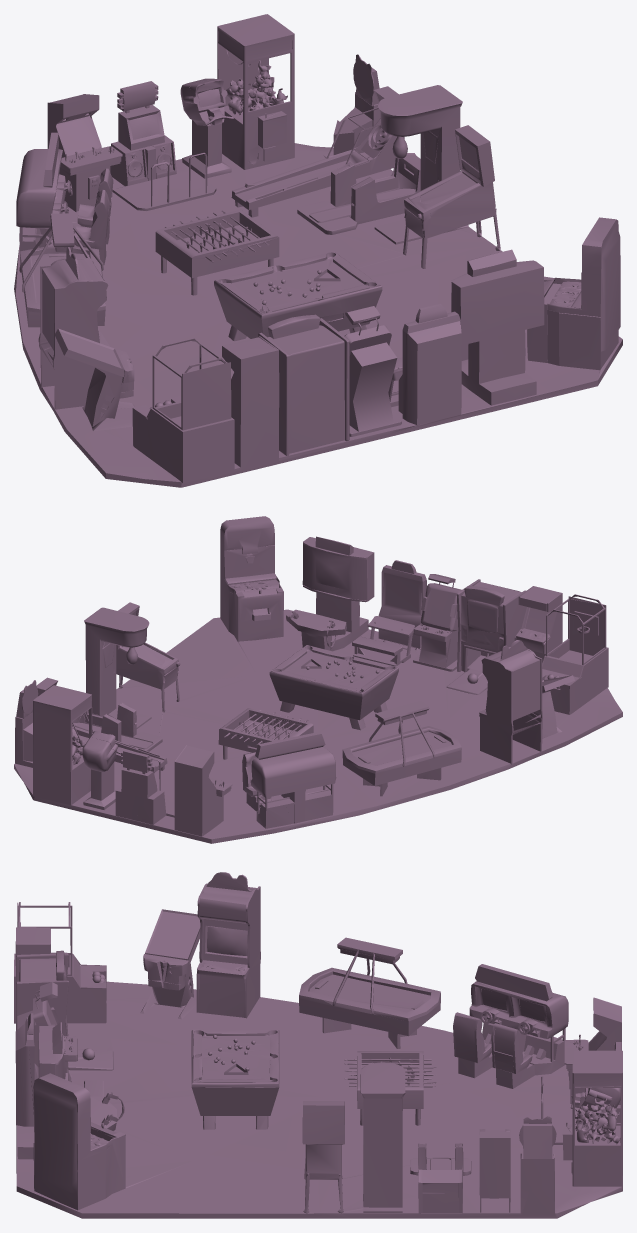
Rendered from DM arena 12.glb.
3 views of the same model, one above another, from view 1: azimuth 30°, elevation 25°; view 2: azimuth 150°, elevation 25°; view 3: azimuth 270°, elevation 25° (orthographic). The views are drawn at different scales.
Parts seen in each view (by area): view 1: skfb_offset; view 2: skfb_offset; view 3: skfb_offset.
Boxes of the visible parts, x1,y1,x2,y2 form: skfb_offset: (14, 14, 622, 487); skfb_offset: (14, 516, 622, 843); skfb_offset: (14, 872, 622, 1218).
Size of the model in its own units: 992 by 268 by 1089.
